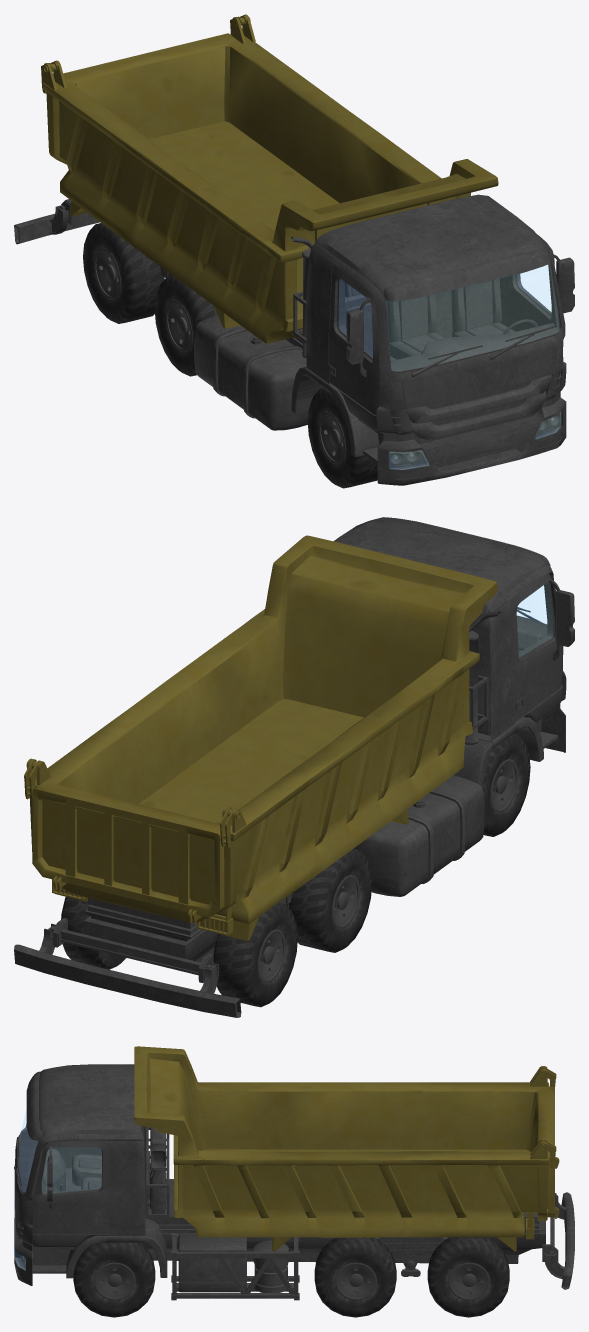
3 renders of one model, top to bottom at view 1: azimuth 30°, elevation 25°; view 2: azimuth 150°, elevation 25°; view 3: azimuth 270°, elevation 25°, orthographic. The views are drawn at different scales.
Visible parts, largest first — view 1: dump_truck_01; view 2: dump_truck_01; view 3: dump_truck_01.
Boxes of the visible parts, x1,y1,x2,y2 form: dump_truck_01: [14, 14, 574, 488]; dump_truck_01: [14, 517, 574, 1017]; dump_truck_01: [14, 1046, 574, 1317].
Bounding box in the file's own units: 2.18 × 2.3 × 5.82.
Materials: 6 (5 with a texture image).
